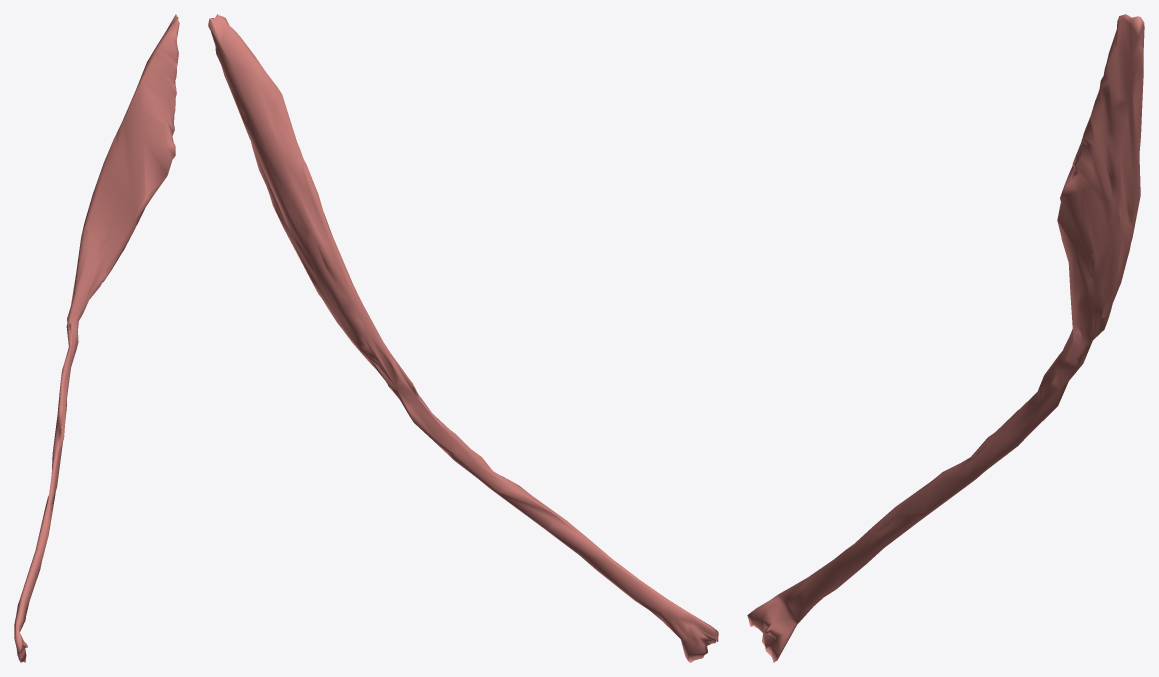
3 views of the same model, side by side, from view 1: azimuth 30°, elevation 25°; view 2: azimuth 150°, elevation 25°; view 3: azimuth 270°, elevation 25° (orthographic). The views are drawn at different scales.
Visible parts, largest first — view 1: ZA_d88f2247ca5bc3cf; view 2: ZA_d88f2247ca5bc3cf; view 3: ZA_d88f2247ca5bc3cf.
Part boxes in pixels (x1,y1,x2,y2): ZA_d88f2247ca5bc3cf: (14,14,179,662); ZA_d88f2247ca5bc3cf: (208,14,718,662); ZA_d88f2247ca5bc3cf: (747,14,1144,662).
Bounding box in the file's own units: 0.079 × 0.1403 × 0.0586.
